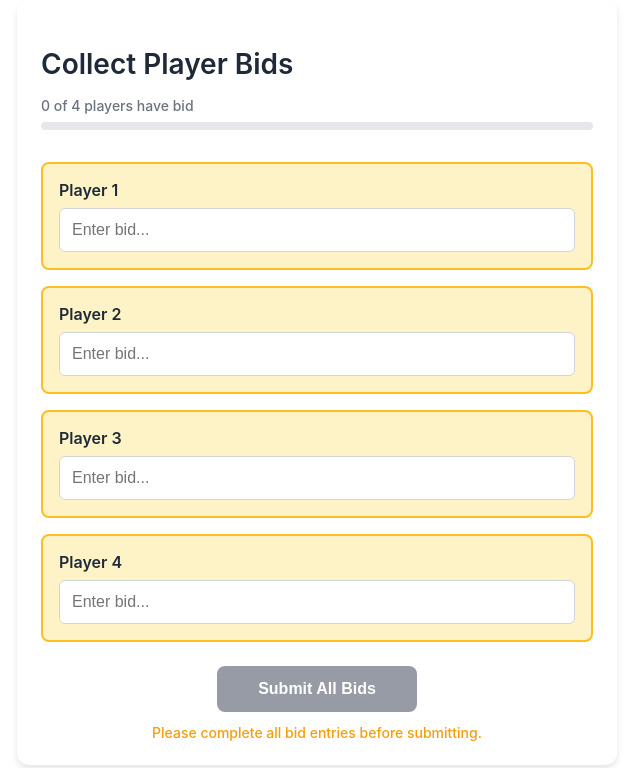
Test case: BidCollection › updates progress indicator as bids are entered
This screenshot has width=635, height=768.
Type "3" into the number field with placeholder "Enter bid..." below "Player 1" at [317, 230], box left=59, top=208, right=575, bottom=252
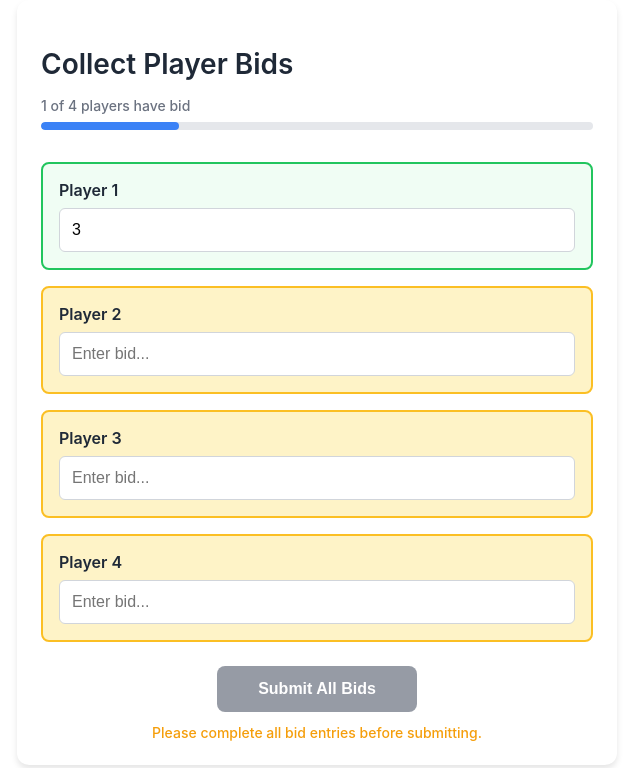
expect the text "1 of 4 players have bid" is shown: met, box left=41, top=97, right=190, bottom=114
Type "2" into the number field with placeholder "Enter bid..." below "Player 2" at [317, 354], box left=59, top=332, right=575, bottom=376
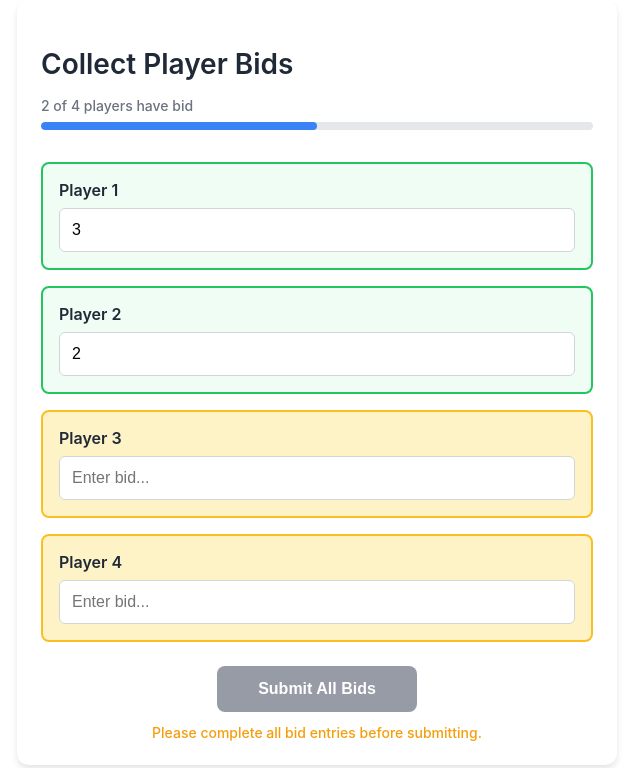
expect the text "2 of 4 players have bid" is shown: met, box left=41, top=97, right=193, bottom=114
